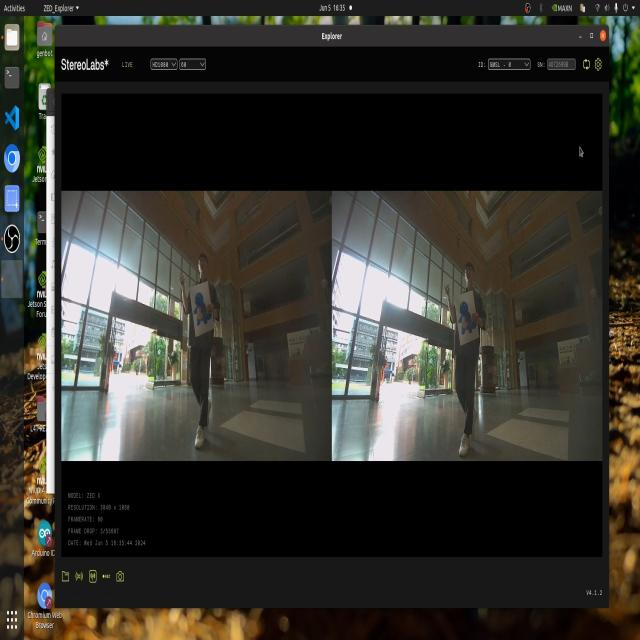blue: (456, 296, 480, 345), (192, 287, 215, 338)
